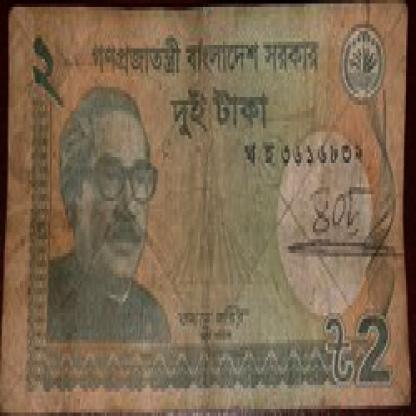two taka: (25, 17, 85, 118), (360, 305, 400, 402)
